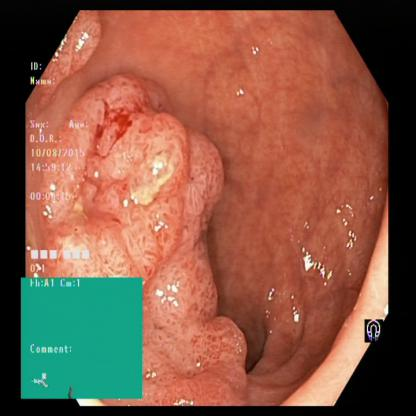Labels: (20, 278, 144, 399), (28, 60, 93, 278), (351, 300, 397, 364)
Polyps: (89, 92, 243, 364)
